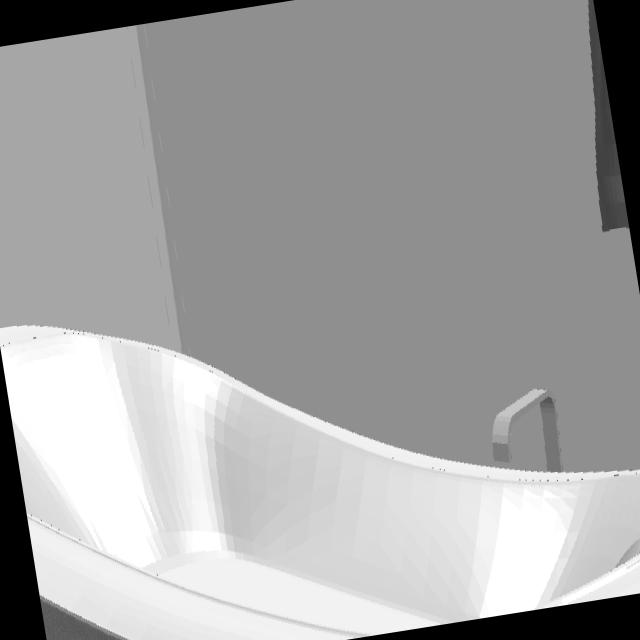bathtube: (0, 329, 640, 640)
